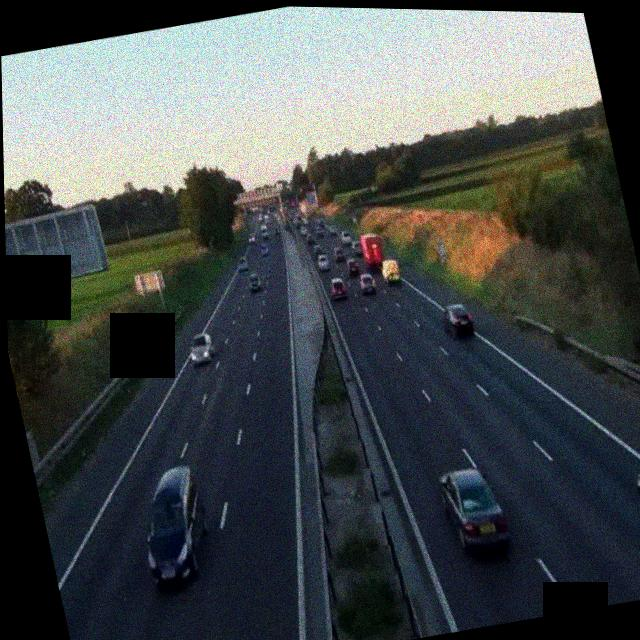bus: (358, 233, 385, 268)
car: (131, 462, 221, 591), (437, 463, 513, 557), (441, 301, 477, 340), (188, 330, 218, 365), (632, 457, 640, 557), (381, 258, 403, 286), (328, 277, 349, 302), (357, 271, 377, 296), (246, 271, 264, 295), (316, 251, 333, 272), (344, 255, 361, 276), (331, 245, 346, 263), (237, 255, 249, 271), (306, 232, 318, 248), (299, 226, 310, 239), (247, 232, 257, 246), (261, 244, 271, 257)
